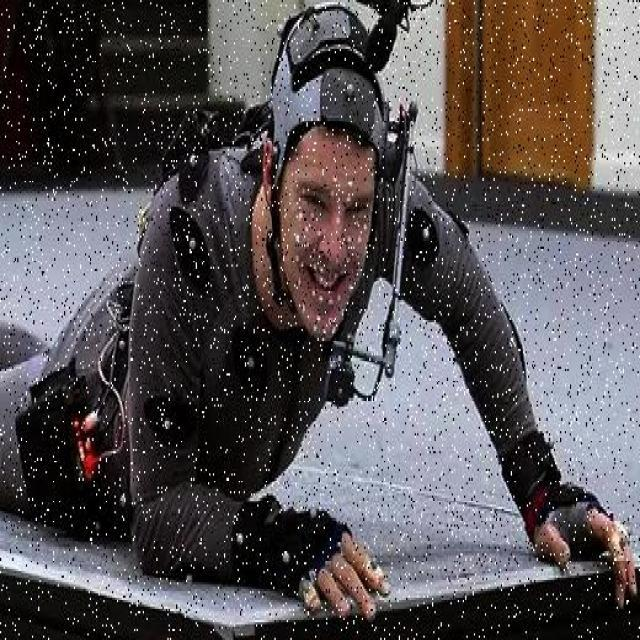fall: (2, 53, 590, 531)
